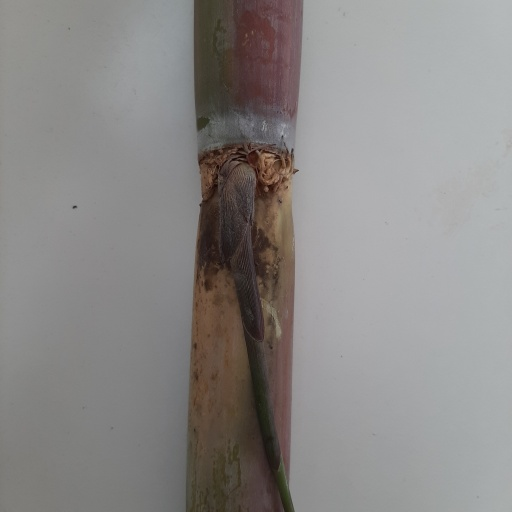Sprouted_Bud: (218, 152, 253, 254)
